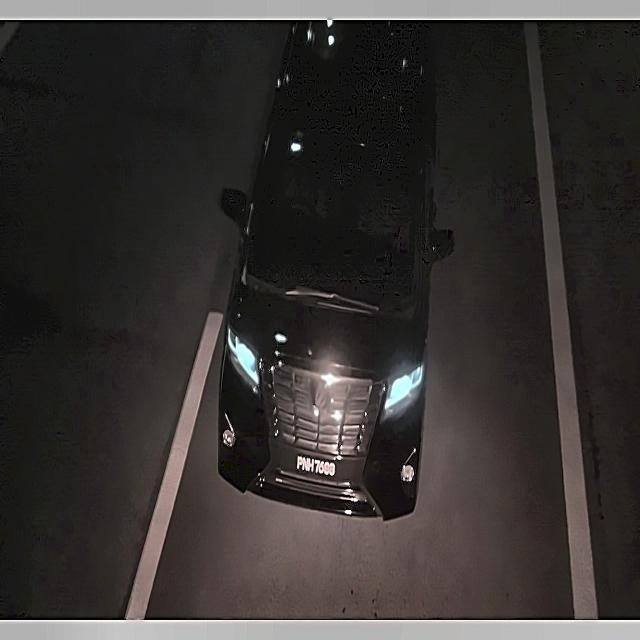car: (293, 447, 340, 484)
